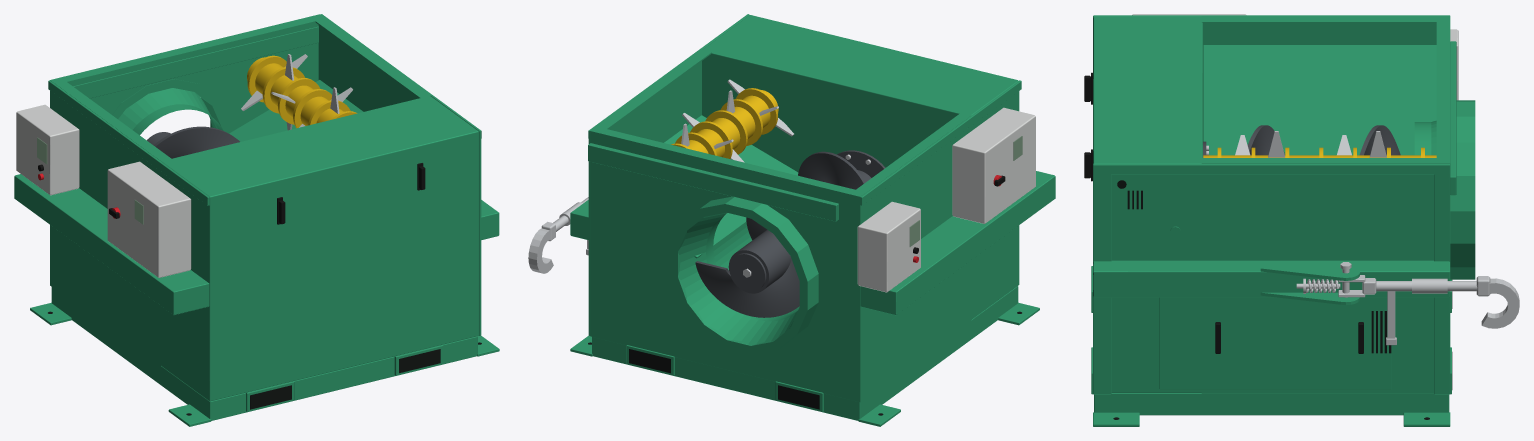
The model's file is modelo.glb.
3 renders of one model, left to right at view 1: azimuth 30°, elevation 25°; view 2: azimuth 150°, elevation 25°; view 3: azimuth 270°, elevation 25°, orthographic. The views are drawn at different scales.
Visible parts, largest first — view 1: Pottinger_CompactadorFuso; view 2: Pottinger_CompactadorFuso; view 3: Pottinger_CompactadorFuso.
Part boxes in pixels (left/top/right/bottom): Pottinger_CompactadorFuso: left=14, top=14, right=499, bottom=426; Pottinger_CompactadorFuso: left=528, top=14, right=1055, bottom=426; Pottinger_CompactadorFuso: left=1084, top=14, right=1519, bottom=426.
Bounding box in the file's own units: 1.63 × 1.01 × 1.58.
